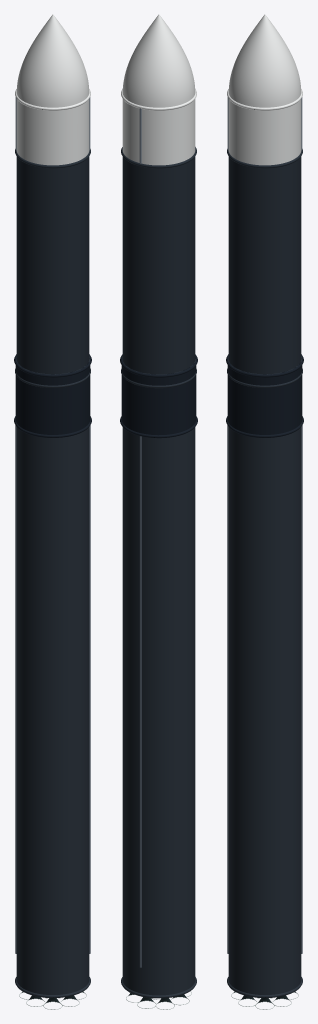
Rendered from electron.glb.
3 renders of one model, left to right at view 1: azimuth 90°, elevation 25°; view 2: azimuth 150°, elevation 25°; view 3: azimuth 270°, elevation 25°, orthographic.
Parts seen in each view (by area): view 1: thin-exterior-shell (×4), ogive-fairing, stage-1, fairing, stage-2, engine; view 2: thin-exterior-shell (×4), ogive-fairing, stage-1, fairing, stage-2, engine; view 3: thin-exterior-shell (×4), ogive-fairing, stage-1, fairing, stage-2, engine.
Part boxes in pixels (x1,y1,x2,y2): thin-exterior-shell (×4): (15,99,90,994); ogive-fairing: (16,14,89,107); stage-1: (14,354,91,997); fairing: (15,89,90,150); stage-2: (15,149,90,374); engine: (19,991,86,1009); thin-exterior-shell (×4): (121,99,196,995); ogive-fairing: (122,14,195,107); stage-1: (120,354,197,998); fairing: (121,89,196,163); stage-2: (121,147,196,374); engine: (126,991,191,1009); thin-exterior-shell (×4): (227,99,302,994); ogive-fairing: (228,14,301,107); stage-1: (226,354,303,997); fairing: (227,89,302,150); stage-2: (227,149,302,374); engine: (231,991,298,1009).
Size of the model in its own units: 0.5716 by 7.94 by 0.5716.
